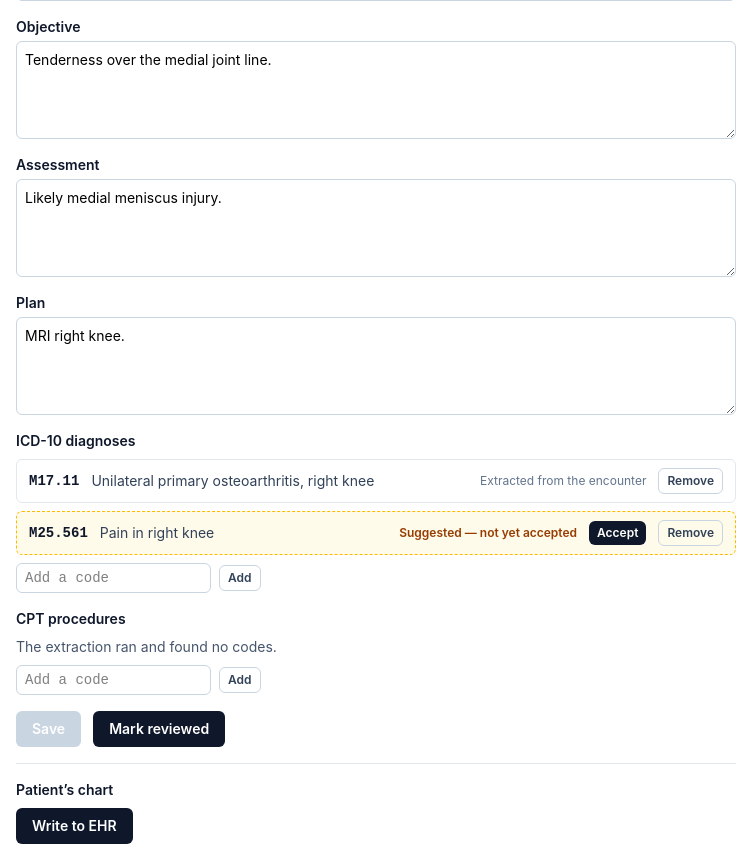
writing to the chart › adopts a 422 as the standing reason
(page scrolled)
Expected: the text box with test id "section-soapPlan" is shown, [16,317,736,415]
What coordinates should you click on to do the following:
click the button with test id "write-to-ehr"
I would click on:
 (74, 826)
Its box is [16,808,133,844].
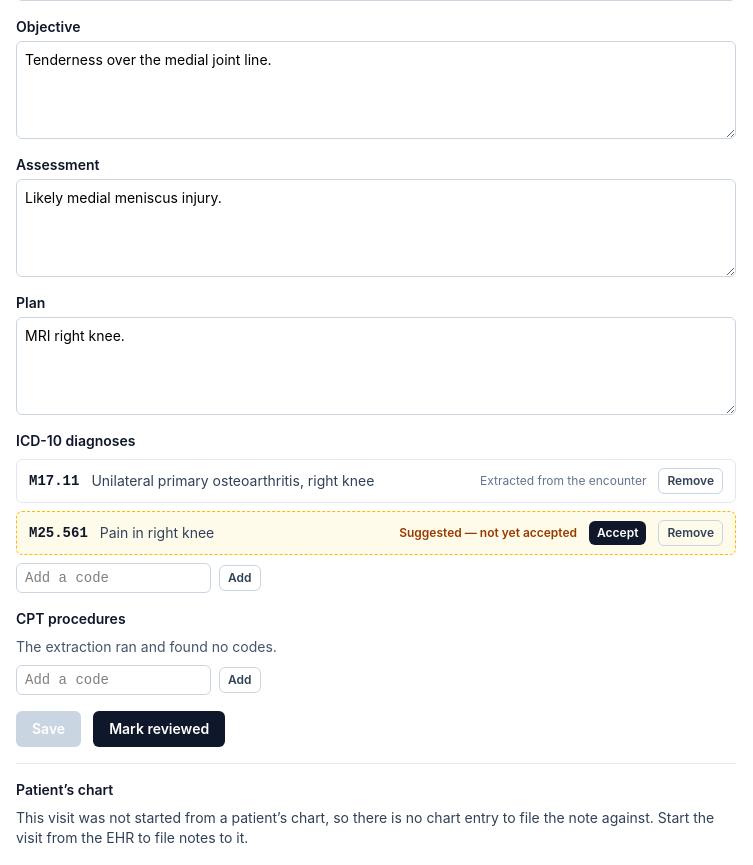
Now the text with test id "write-not-linked" is shown, box [16,808,736,848]
Now the button with test id "write-to-ehr" is gone
